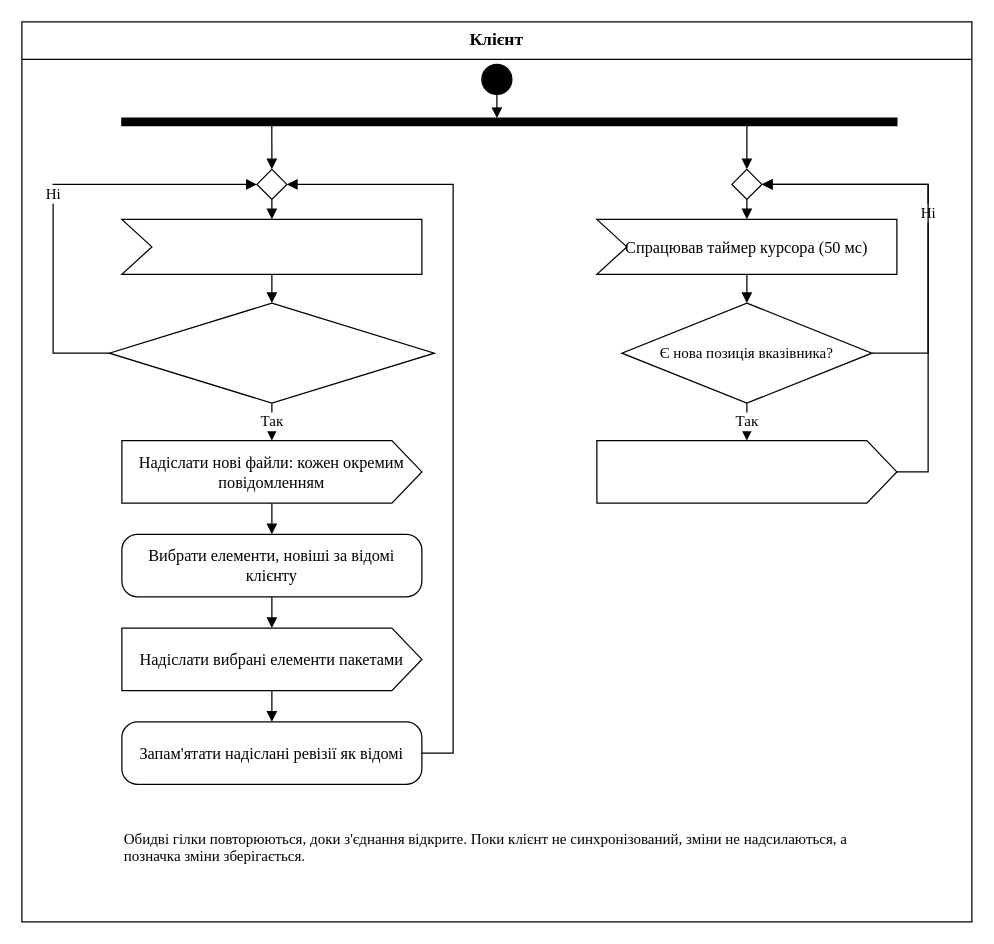
Some shapes in this 994 by 944 pixel diagram are drawn without their labels. The shapes that lost their labels are listed below. From the top down, each one's box as (x1, y1, x2, y2) in pixels, then its label:
(121, 218, 422, 274): Спрацював таймер змін (50 мс)
(108, 302, 434, 403): Сцена змінилася і клієнт синхронізований?
(596, 439, 897, 503): Надіслати позицію курсора
